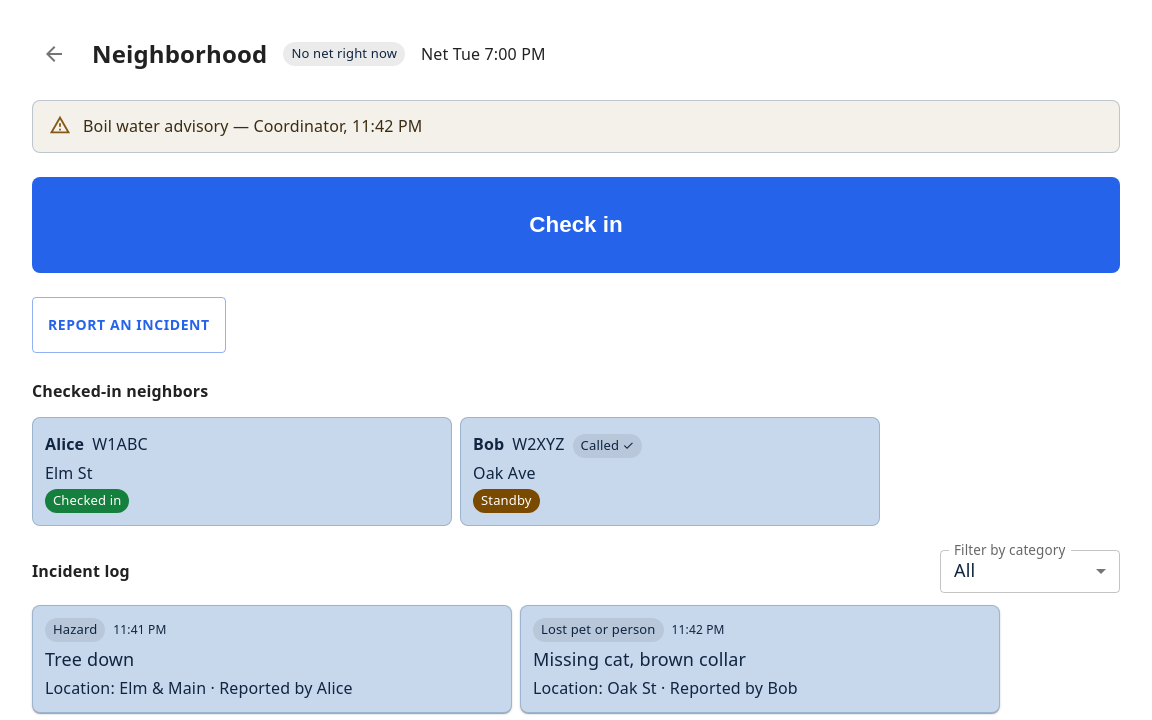
Test case: NeighborhoodPanel › report-an-incident flow: opens dialog, gates submit until valid, sends the expected payload, and closes
Click the button "Report an incident". click: [129, 325]
box: [32,297,226,353]
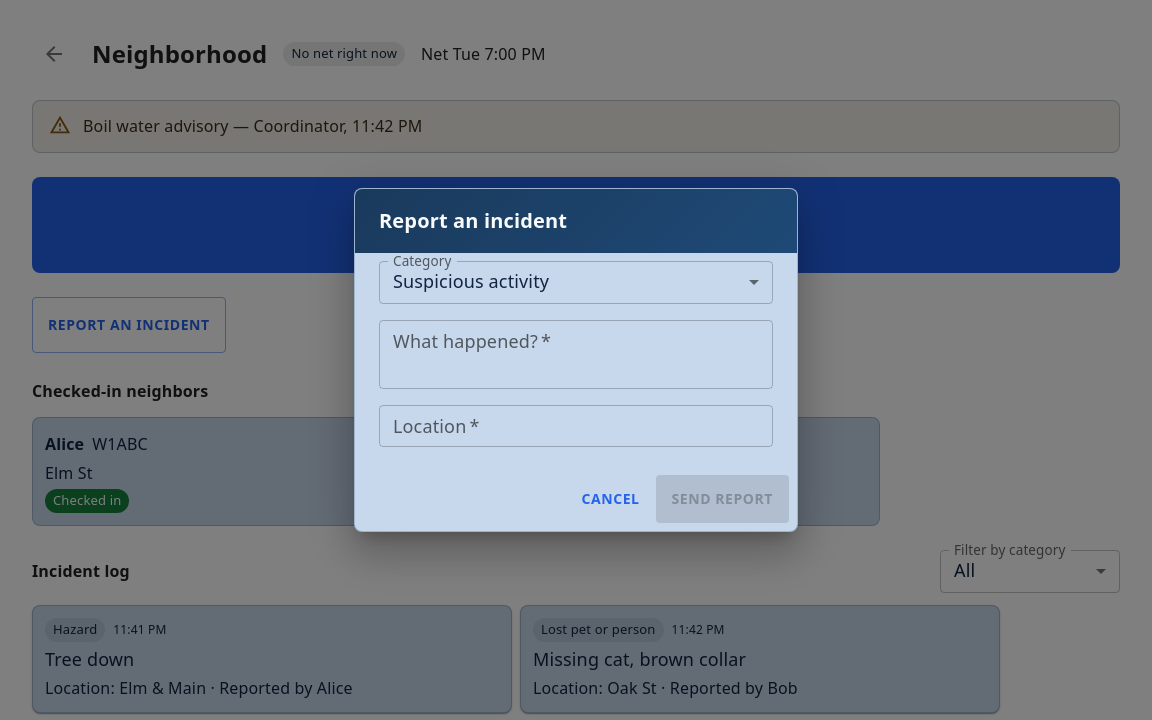
Check: the button "Send report" is disabled, box [656,475,789,523]
Click the dropdown named "Category". click: [471, 281]
box: [393,269,549,293]
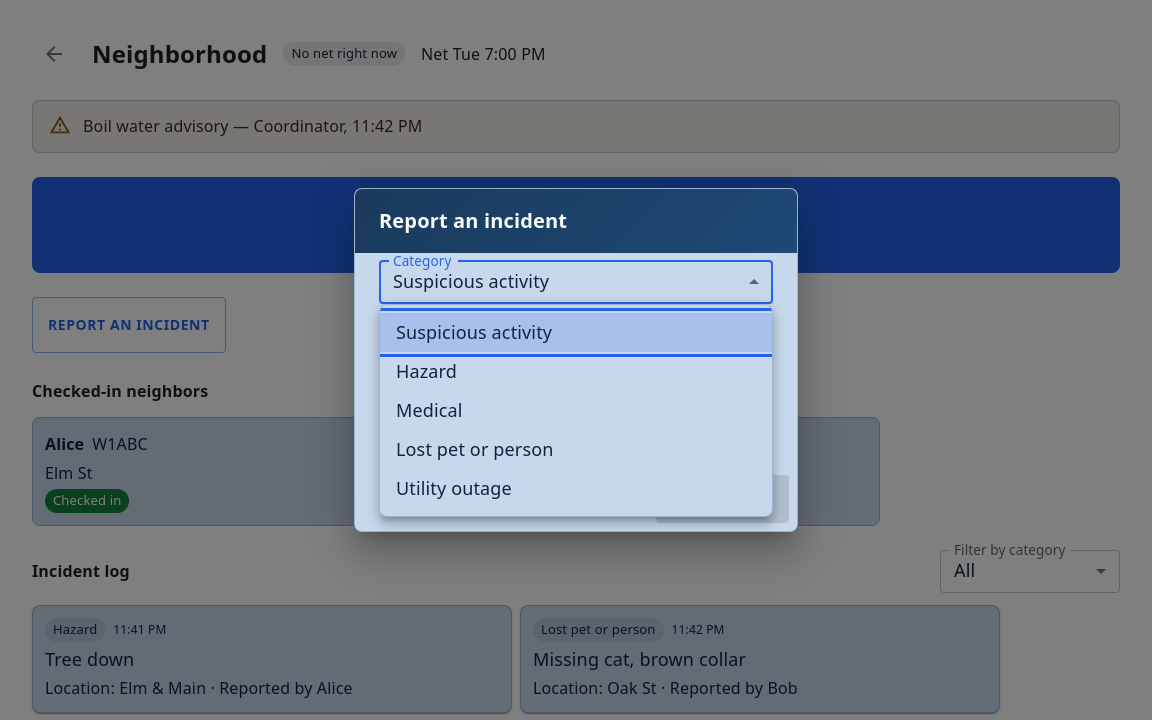
Click the option "Medical". click: [429, 410]
box: [396,398,463,422]
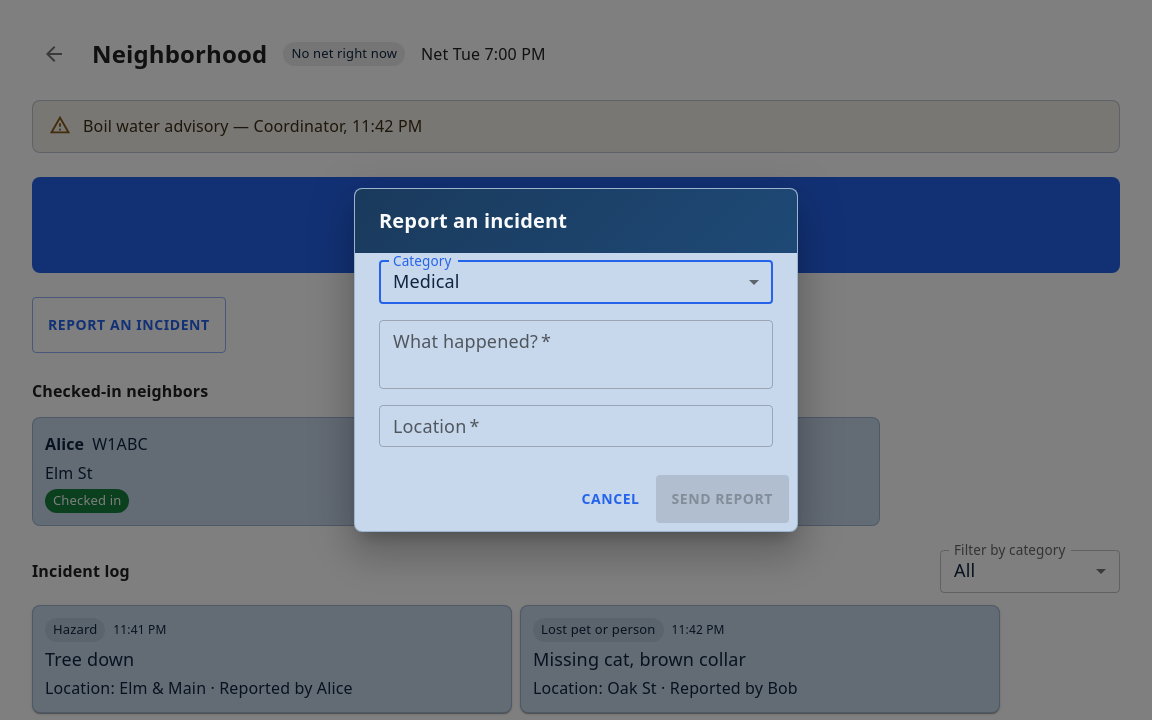
Type "Neighbor fell, needs help" into the text box labelled "What happened? *". click: [576, 354]
box: [393,328,759,380]
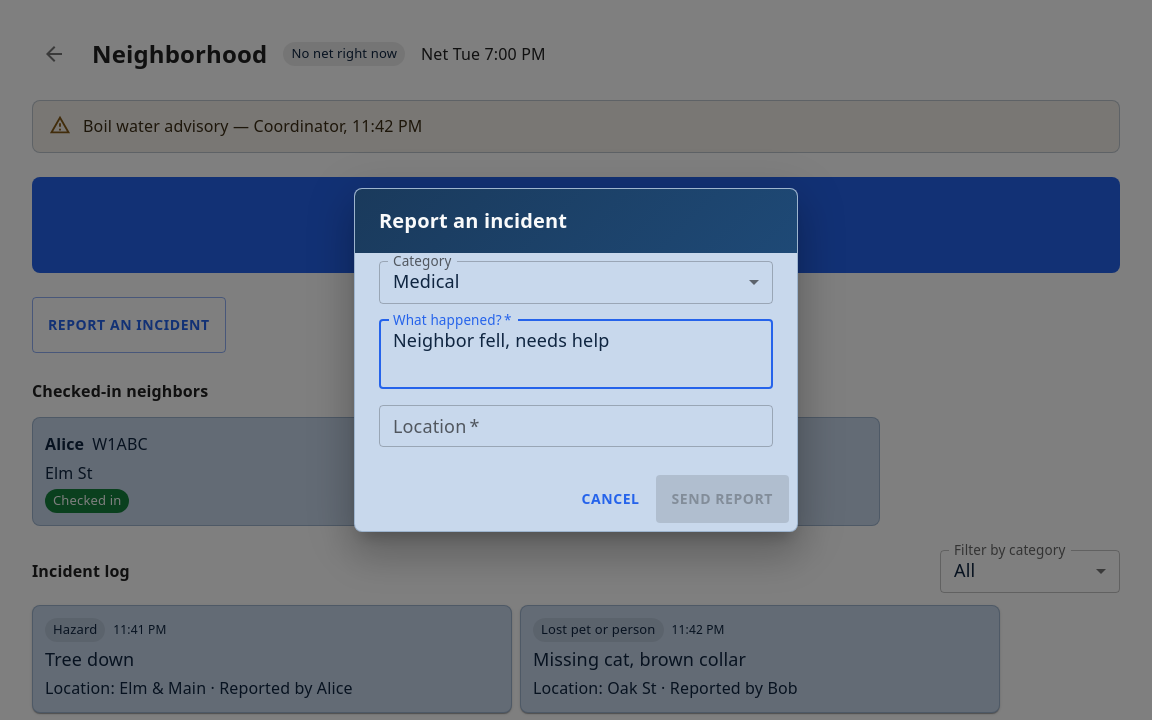
Check: the button "Send report" is disabled, box [656,475,789,523]
Type "12 Oak St" into the field labelled "Location *". click: [576, 426]
box: [379,404,773,447]
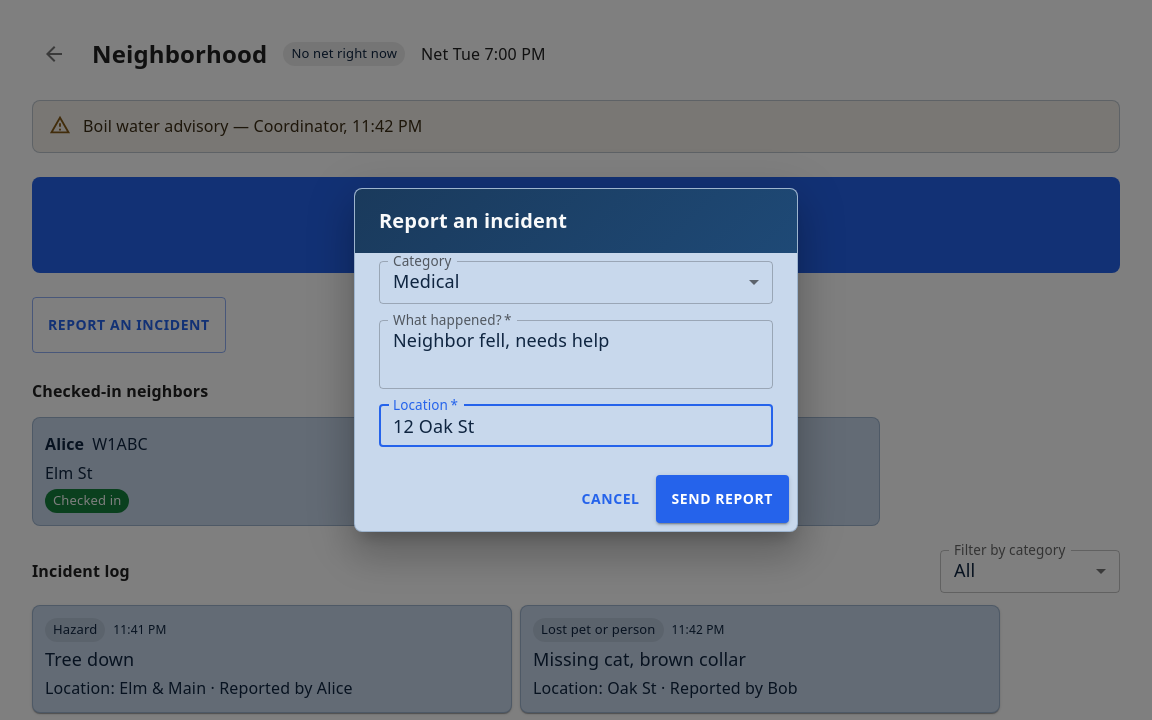
Check: the button "Send report" is enabled
Click the button "Send report". click: [722, 499]
box: [656,475,789,523]
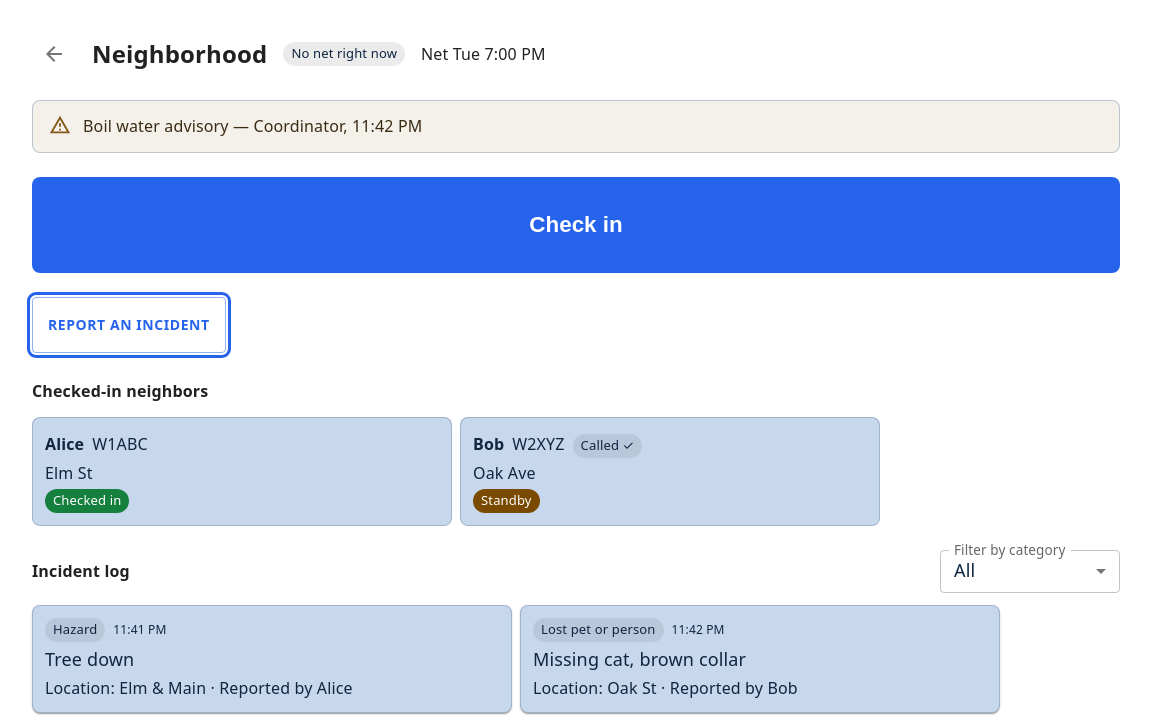
Check: the dialog is gone
